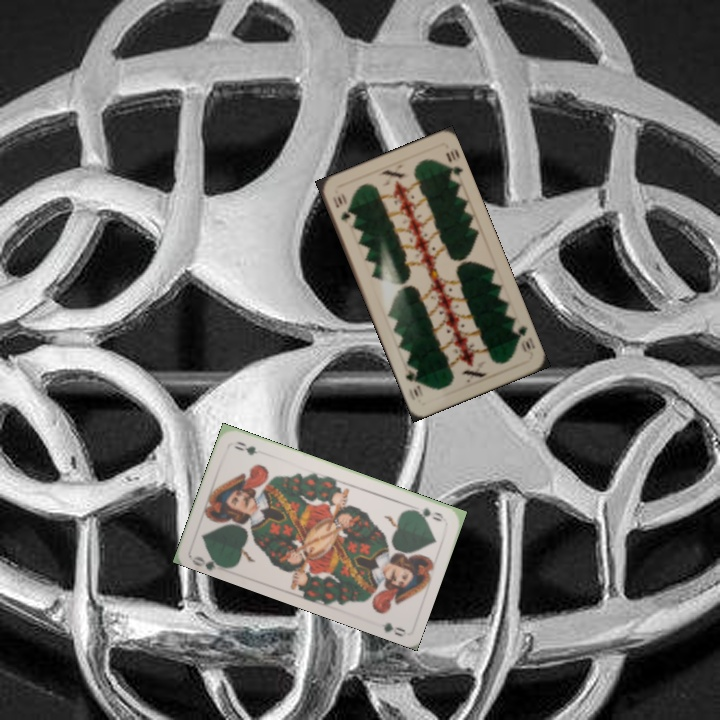G10: (508, 320, 538, 357), (328, 192, 353, 226)
GO: (188, 549, 229, 572), (407, 503, 446, 524)
